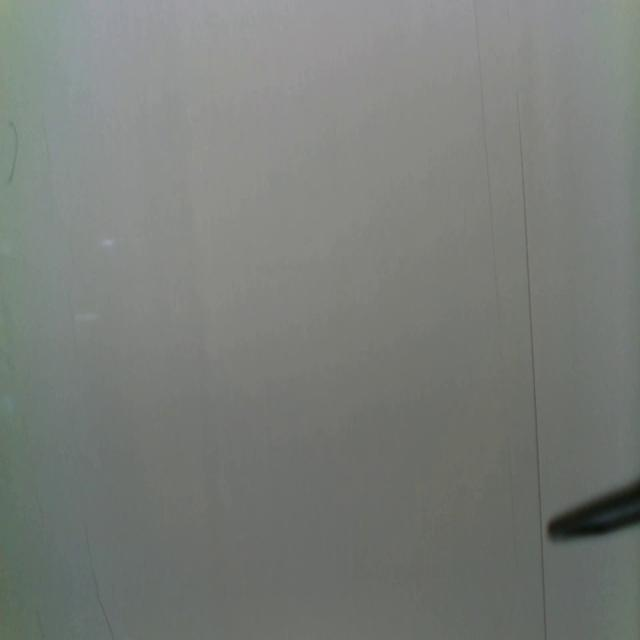crease: (472, 0, 514, 513), (515, 89, 549, 640), (89, 556, 116, 640)
